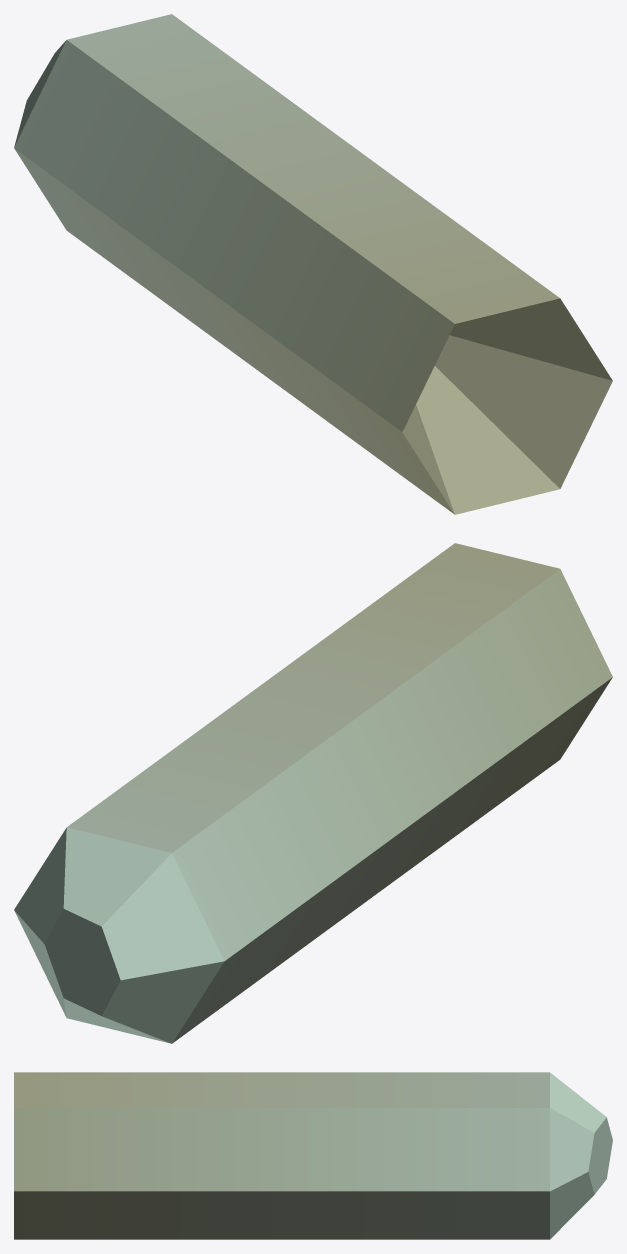
Rendered from ColoredCrystal.006.glb.
The picture shows the model from 3 angles, top to bottom: view 1: azimuth 30°, elevation 25°; view 2: azimuth 150°, elevation 25°; view 3: azimuth 270°, elevation 25°; orthographic projection. The views are drawn at different scales.
Visible parts, largest first — view 1: ColoredCrystal.006; view 2: ColoredCrystal.006; view 3: ColoredCrystal.006.
Part boxes in pixels (box(x1,y1,x2,y2)): ColoredCrystal.006: box(14, 14, 612, 514); ColoredCrystal.006: box(14, 543, 612, 1043); ColoredCrystal.006: box(14, 1072, 612, 1239).
Bounding box in the file's own units: 150 × 130 × 534.
